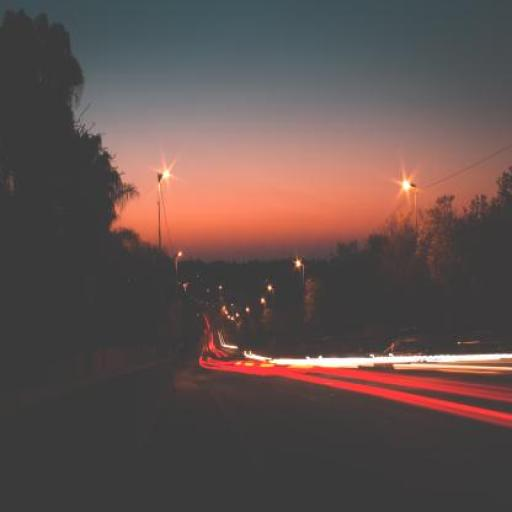street light: (402, 182, 418, 338), (156, 172, 169, 296), (296, 261, 304, 357), (268, 286, 274, 344), (176, 252, 182, 301), (261, 299, 266, 333), (246, 308, 250, 340)
